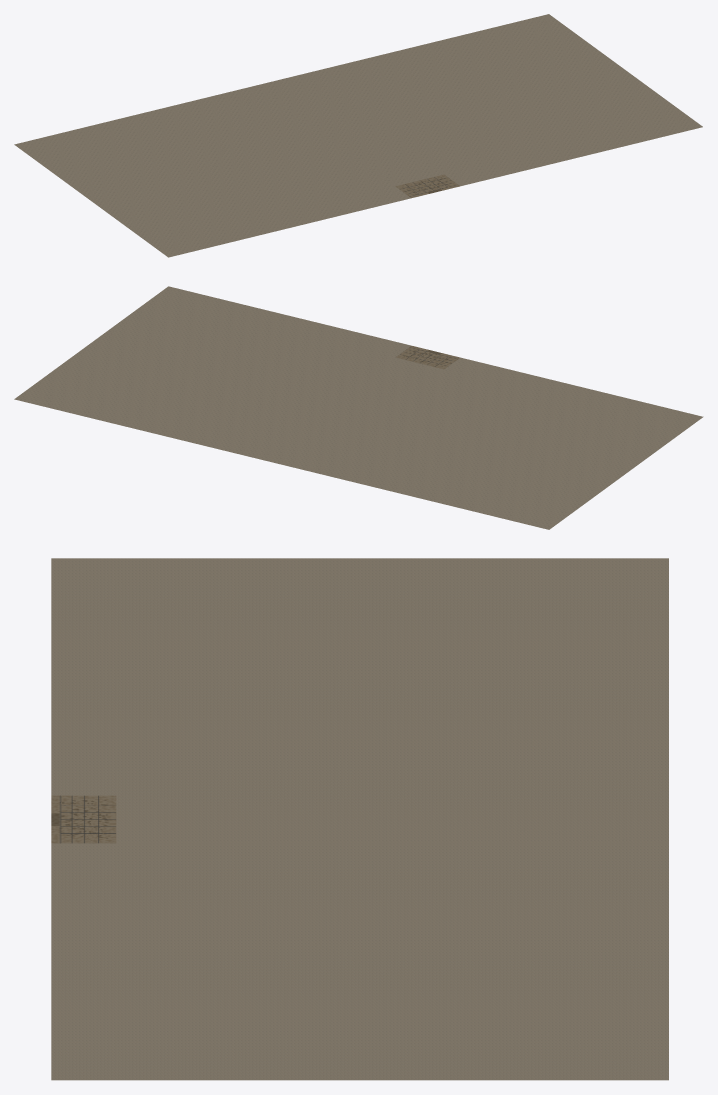
The model's file is port_ground.glb.
3 renders of one model, top to bottom at view 1: azimuth 30°, elevation 25°; view 2: azimuth 150°, elevation 25°; view 3: azimuth 270°, elevation 25°, orthographic. The views are drawn at different scales.
Visible parts, largest first — view 1: land_far, land_far.001, land_far.002, ground; view 2: land_far, land_far.001, land_far.002, ground; view 3: land_far, land_far.001, land_far.002, ground.
Part boxes in pixels (x1,y1,x2,y2): land_far: [14, 85, 410, 257]; land_far.001: [306, 14, 702, 186]; land_far.002: [257, 73, 443, 186]; ground: [395, 174, 459, 198]; land_far: [306, 357, 703, 529]; land_far.001: [14, 286, 410, 458]; land_far.002: [257, 357, 443, 470]; ground: [395, 345, 460, 369]; land_far: [51, 558, 668, 795]; land_far.001: [51, 843, 668, 1080]; land_far.002: [116, 795, 668, 843]; ground: [51, 795, 116, 843].
Bounding box in the file's own units: 14000 × 3.24 × 7025.
Materials: 3 (3 with a texture image).
